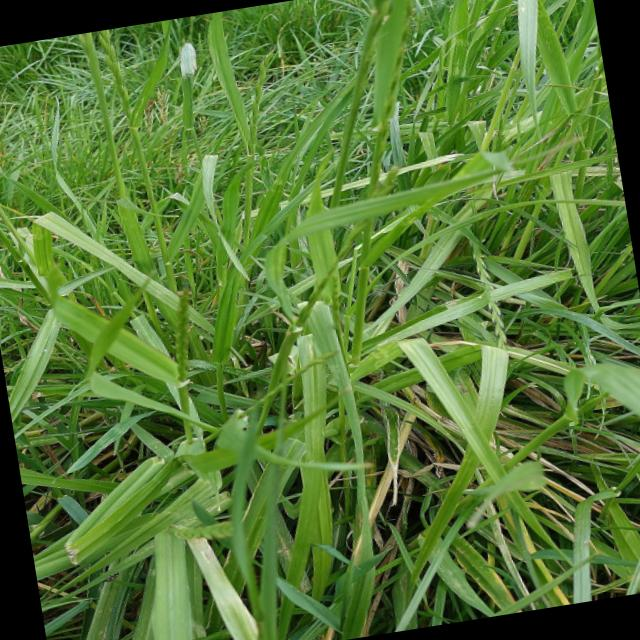Lolium: (442, 218, 523, 346)
